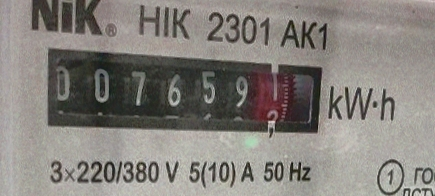0: (88, 64, 113, 105), (49, 62, 73, 103)
1: (265, 71, 283, 104)
5: (197, 68, 218, 106)
6: (162, 70, 184, 109)
7: (127, 68, 147, 108)
9: (231, 73, 249, 110)
screen: (35, 32, 331, 159)
